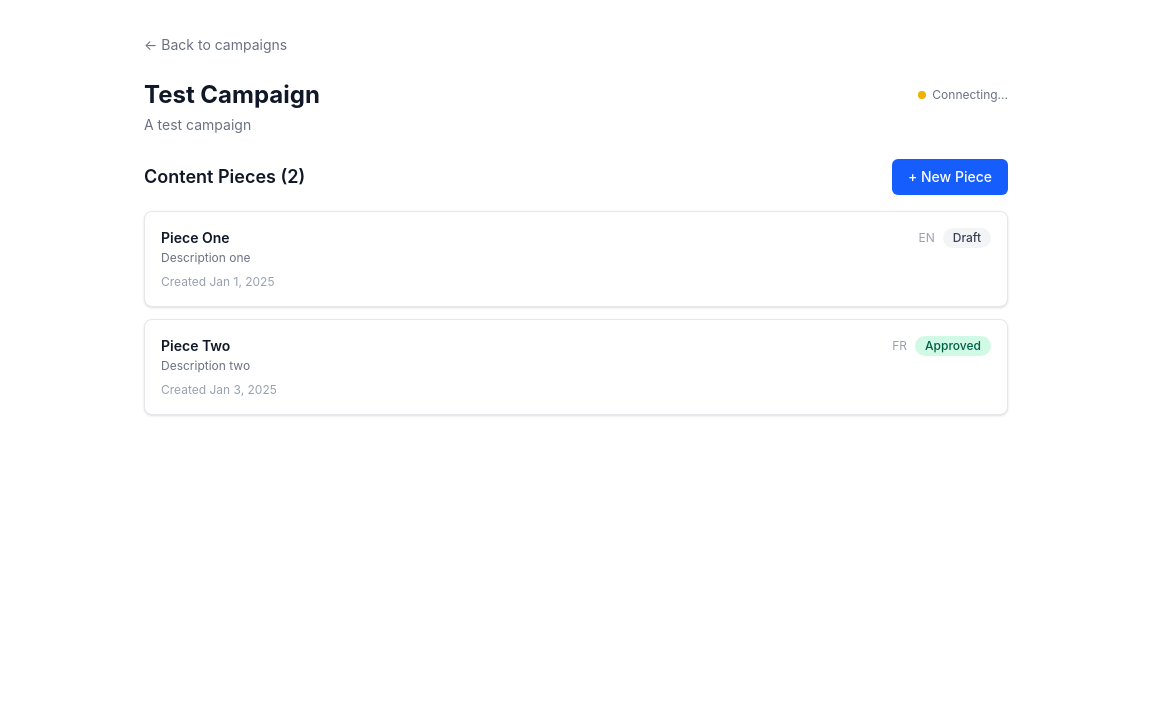
Scenario: CampaignDetail › generates an AI draft and updates the piece state
The width and height of the screenshot is (1152, 720).
Expected: the heading "Test Campaign" is shown, [144, 79, 320, 111]
What coordinates should you click on to do the following:
click the heading "Piece One"
I would click on:
 (195, 238)
Its box is [161, 229, 230, 246].
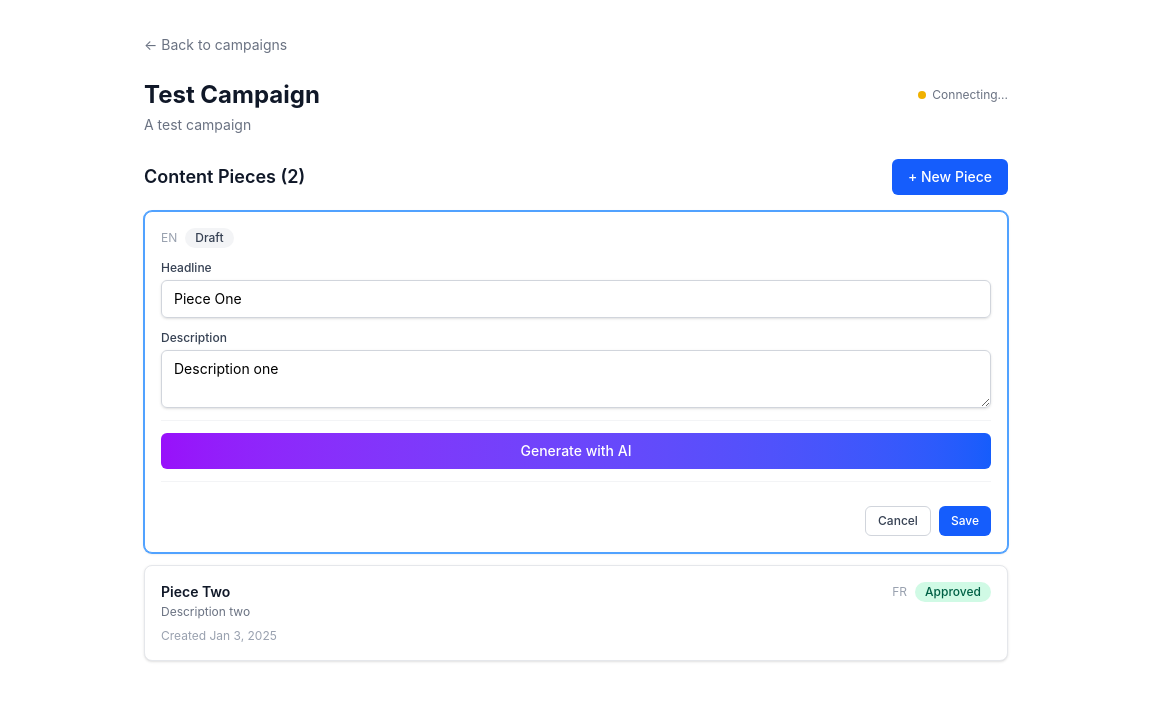
What coordinates should you click on to do the following:
click the button "Generate with AI"
I would click on:
 (576, 451)
Its box is [161, 433, 991, 469].
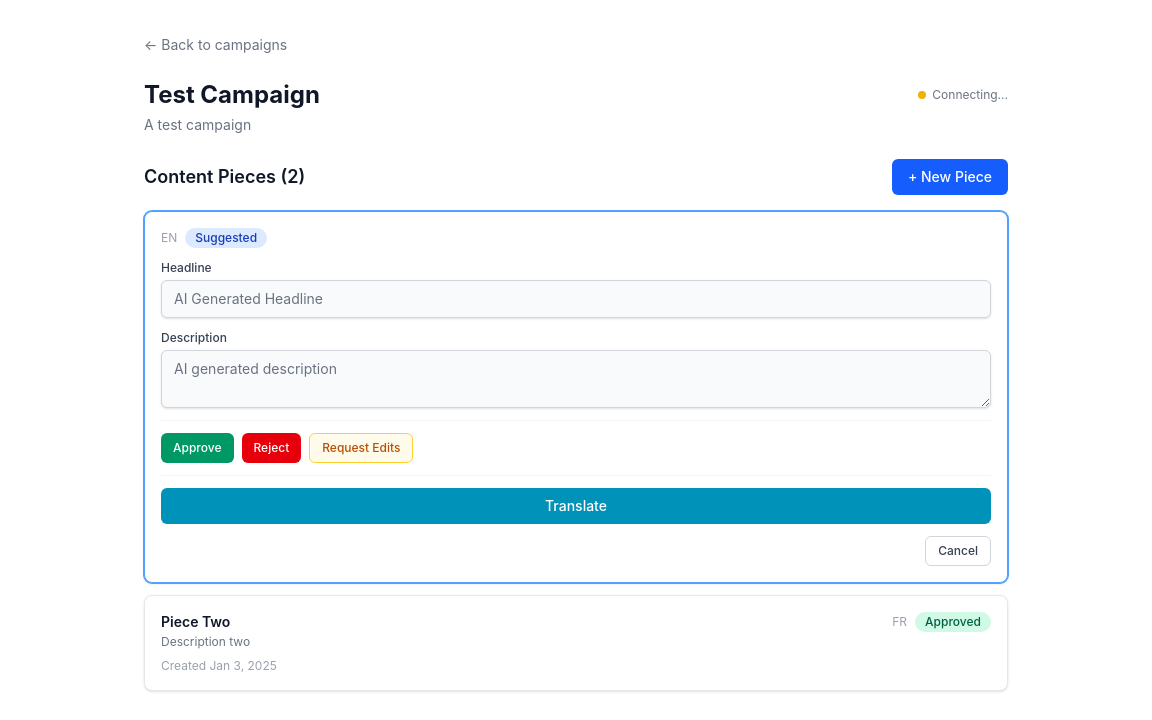
Result: the field showing "AI Generated Headline" is shown at [161, 280, 991, 318]
Result: the text "Suggested" is shown at [185, 228, 267, 248]
